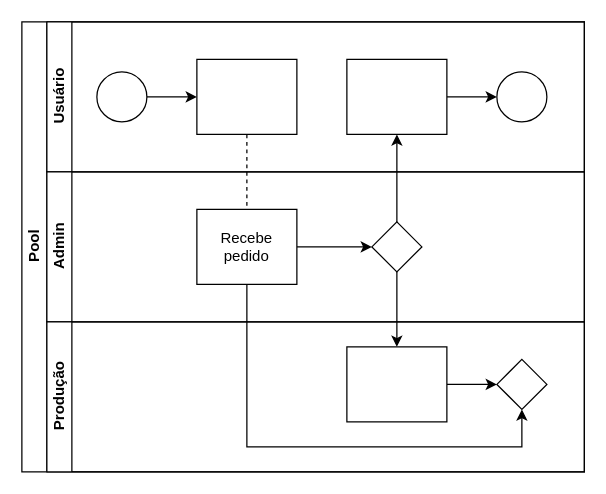
The diagram is 606 pixels wide and 494 high, and some of its shapes have lost their labels. The shapes that lost their labels are listed below. From the top down, each one's centre as x and y in pixels, then its label:
the point at 246,96: Pede Produto
the point at 396,96: Entregar ao cliente
the point at 396,384: Produzir o produto
